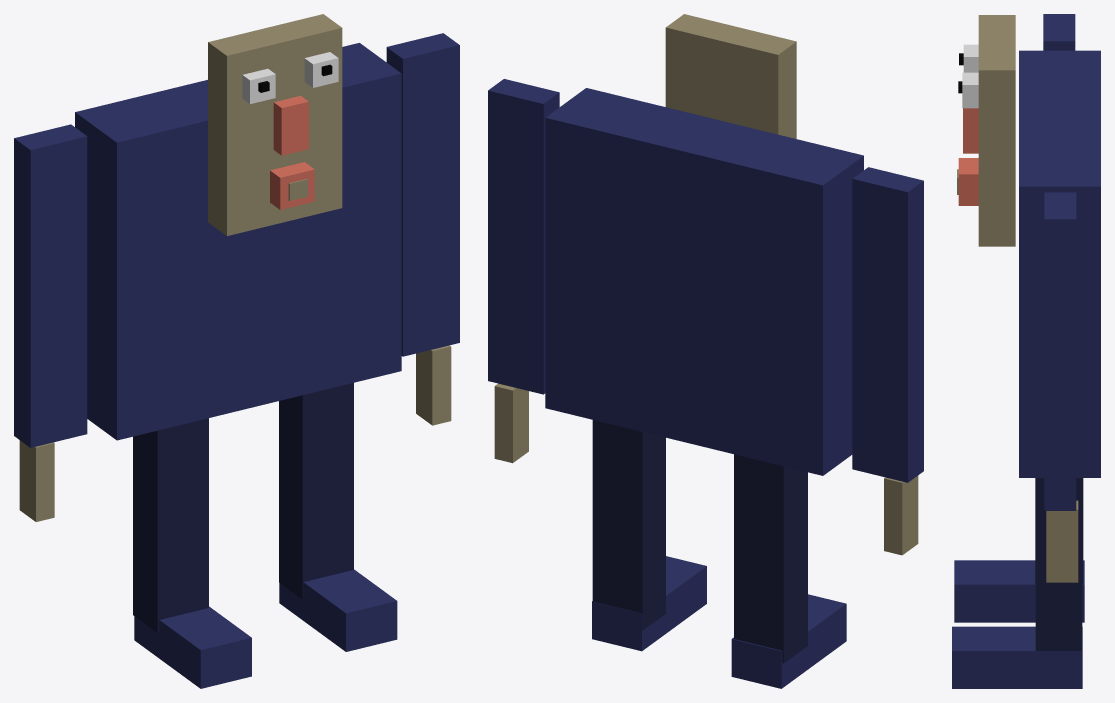
File: ManWithDeletedFlashlight.glb
The picture shows the model from 3 angles, left to right: view 1: azimuth 30°, elevation 25°; view 2: azimuth 150°, elevation 25°; view 3: azimuth 270°, elevation 25°; orthographic projection. The views are drawn at different scales.
Visible parts, largest first — view 1: Cube, Cube.004, Cube.002, Cube.003, Cube.006, Cube.005, Cube.008, Cube.007, Cube.010, Cube.009, Cube.011, Cube.015 (+2 smaller); view 2: Cube, Cube.004, Cube.003, Cube.006, Cube.005, Cube.002, Cube.007, Cube.008, Cube.009, Cube.010; view 3: Cube, Cube.003, Cube.002, Cube.008, Cube.007, Cube.005, Cube.009, Cube.004, Cube.015, Cube.011, Cube.013, Cube.012 (+1 smaller).
Part boxes in pixels (bbox=[...]): Cube: bbox=[75, 43, 401, 440]; Cube.004: bbox=[14, 124, 87, 447]; Cube.002: bbox=[208, 14, 342, 235]; Cube.003: bbox=[386, 33, 459, 356]; Cube.006: bbox=[133, 418, 208, 632]; Cube.005: bbox=[279, 383, 353, 599]; Cube.008: bbox=[279, 569, 397, 651]; Cube.007: bbox=[134, 606, 251, 688]; Cube.010: bbox=[19, 440, 54, 521]; Cube.009: bbox=[416, 345, 451, 425]; Cube.011: bbox=[273, 95, 308, 155]; Cube.015: bbox=[270, 162, 314, 209]; Cube: bbox=[545, 88, 863, 475]; Cube.004: bbox=[852, 167, 923, 482]; Cube.003: bbox=[488, 79, 559, 394]; Cube.006: bbox=[734, 454, 807, 663]; Cube.005: bbox=[592, 420, 665, 630]; Cube.002: bbox=[665, 14, 796, 138]; Cube.007: bbox=[731, 594, 846, 688]; Cube.008: bbox=[592, 556, 706, 651]; Cube.009: bbox=[494, 383, 528, 463]; Cube.010: bbox=[884, 475, 918, 555]; Cube: bbox=[1019, 50, 1100, 477]; Cube.003: bbox=[1044, 192, 1076, 510]; Cube.002: bbox=[978, 15, 1015, 246]; Cube.008: bbox=[952, 626, 1082, 688]; Cube.007: bbox=[954, 560, 1084, 622]; Cube.005: bbox=[1035, 478, 1082, 650]; Cube.009: bbox=[1046, 500, 1078, 582]; Cube.004: bbox=[1043, 14, 1075, 50]; Cube.015: bbox=[958, 158, 978, 205]; Cube.011: bbox=[963, 108, 978, 153]; Cube.013: bbox=[962, 72, 978, 108]; Cube.012: bbox=[963, 44, 978, 72].
Size of the model in its own units: 3.02 by 4.13 by 0.9255.
